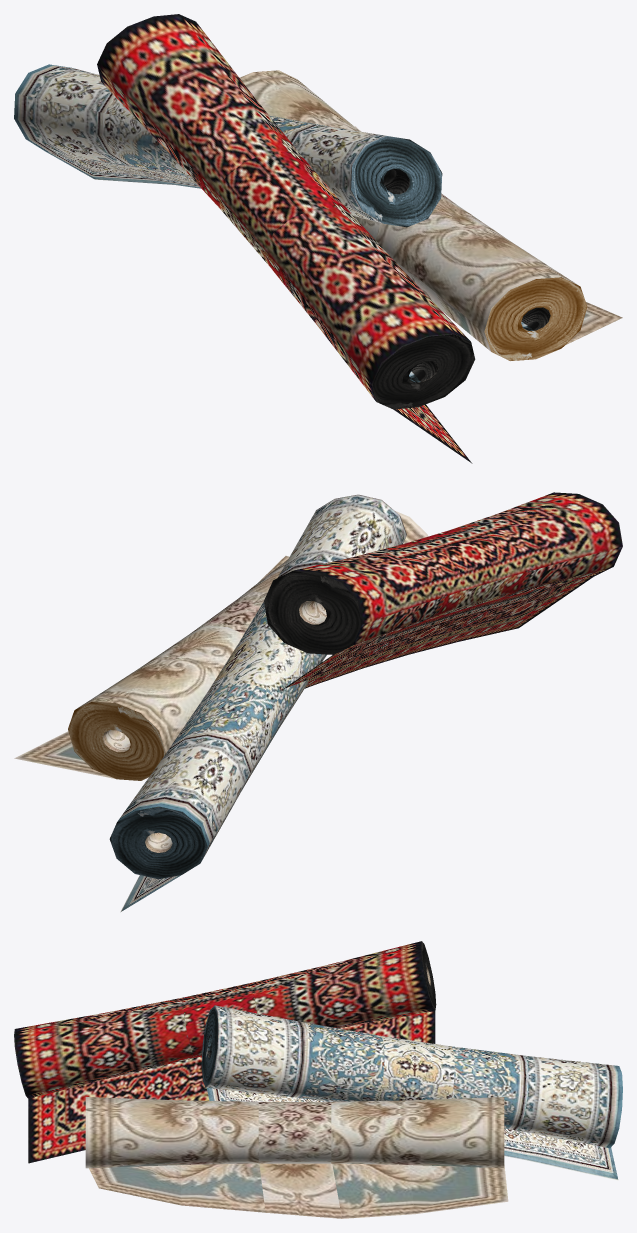
File: Carpet.fbx
3 views of the same model, one above another, from view 1: azimuth 30°, elevation 25°; view 2: azimuth 150°, elevation 25°; view 3: azimuth 270°, elevation 25° (orthographic). The views are drawn at different scales.
Parts seen in each view (by area): view 1: Carpet; view 2: Carpet; view 3: Carpet.
Boxes of the visible parts, box(x1,y1,x2,y2) form: Carpet: box(14, 14, 622, 463); Carpet: box(14, 492, 622, 912); Carpet: box(14, 941, 622, 1218).
Bounding box in the file's own units: 132 × 111 × 298.
